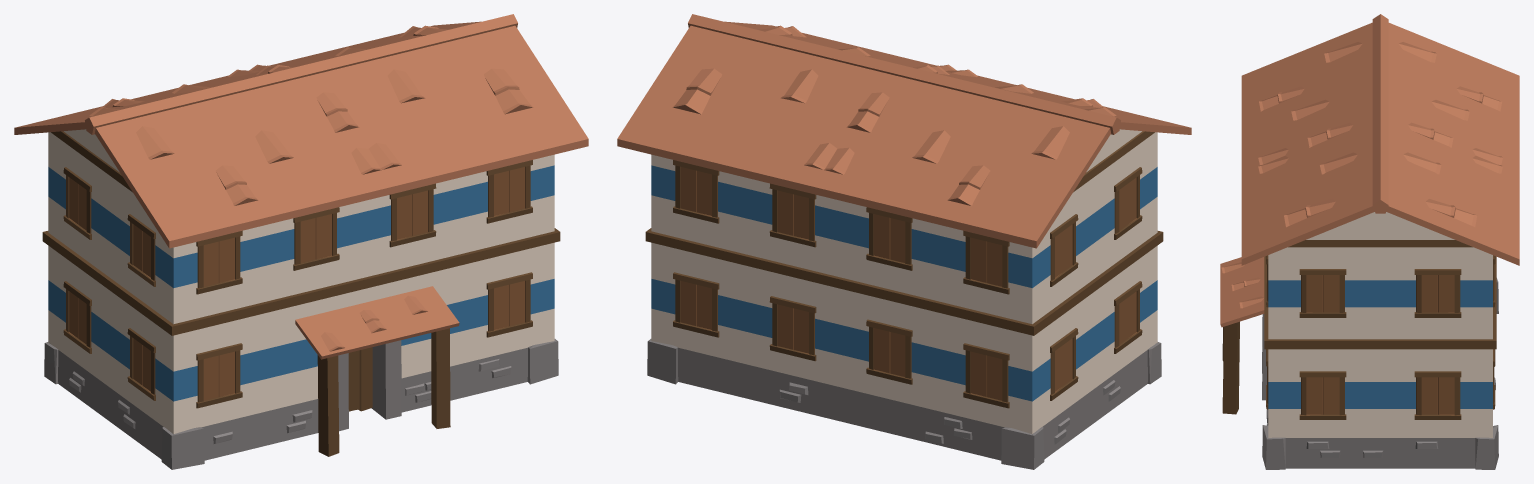
The model's file is empire-house-basic-medium-empire.glb.
3 renders of one model, left to right at view 1: azimuth 30°, elevation 25°; view 2: azimuth 150°, elevation 25°; view 3: azimuth 270°, elevation 25°, orthographic. The views are drawn at different scales.
Parts seen in each view (by area): view 1: SM_House_Basic_Medium_Empire; view 2: SM_House_Basic_Medium_Empire; view 3: SM_House_Basic_Medium_Empire.
Boxes of the visible parts, x1,y1,x2,y2 form: SM_House_Basic_Medium_Empire: (14,14,588,469); SM_House_Basic_Medium_Empire: (617,14,1191,469); SM_House_Basic_Medium_Empire: (1220,14,1519,469).
Bounding box in the file's own units: 10.4 × 7.3 × 7.08.
